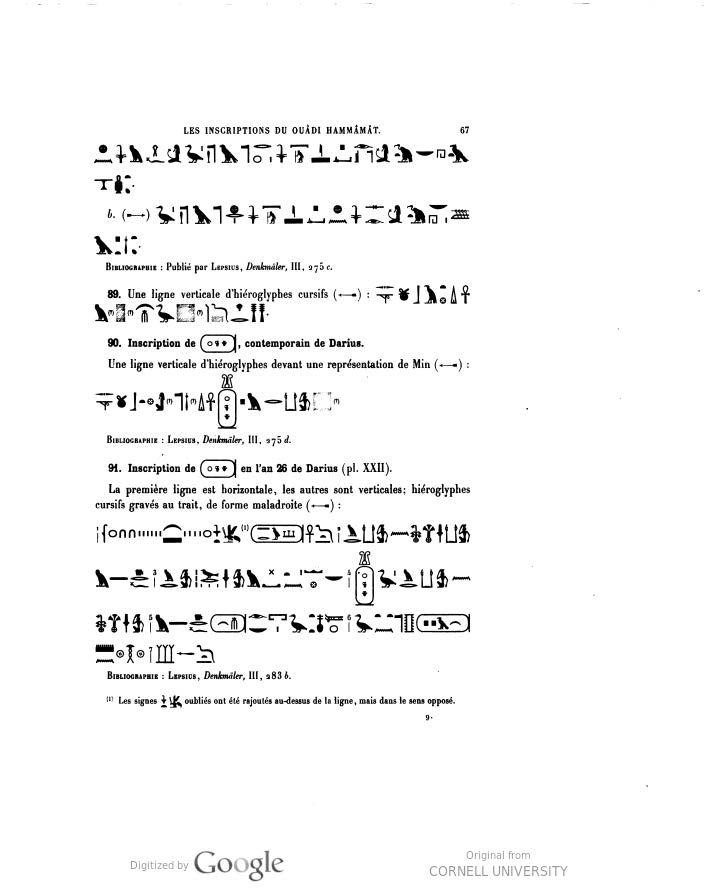circle: (407, 606, 478, 646), (247, 516, 315, 555), (209, 378, 250, 432), (349, 558, 388, 612), (194, 452, 248, 490), (199, 606, 254, 641), (200, 323, 247, 361)
